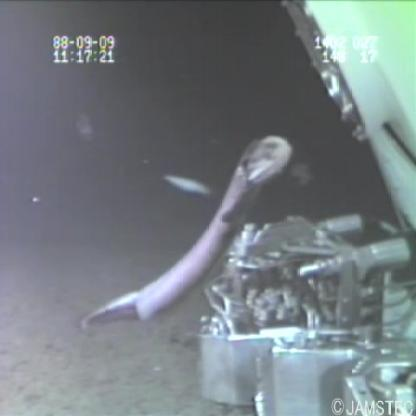Bio: (76, 129, 298, 342)
Rov: (190, 209, 416, 411)
